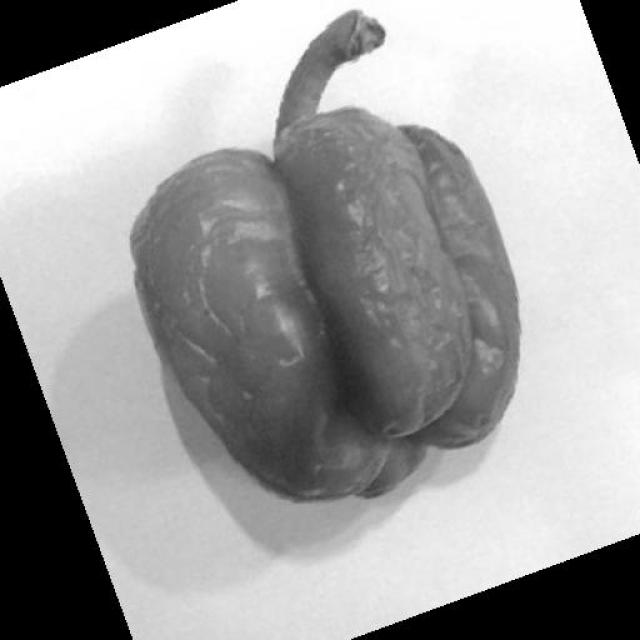Stale_Capsicum: (123, 138, 545, 510)
